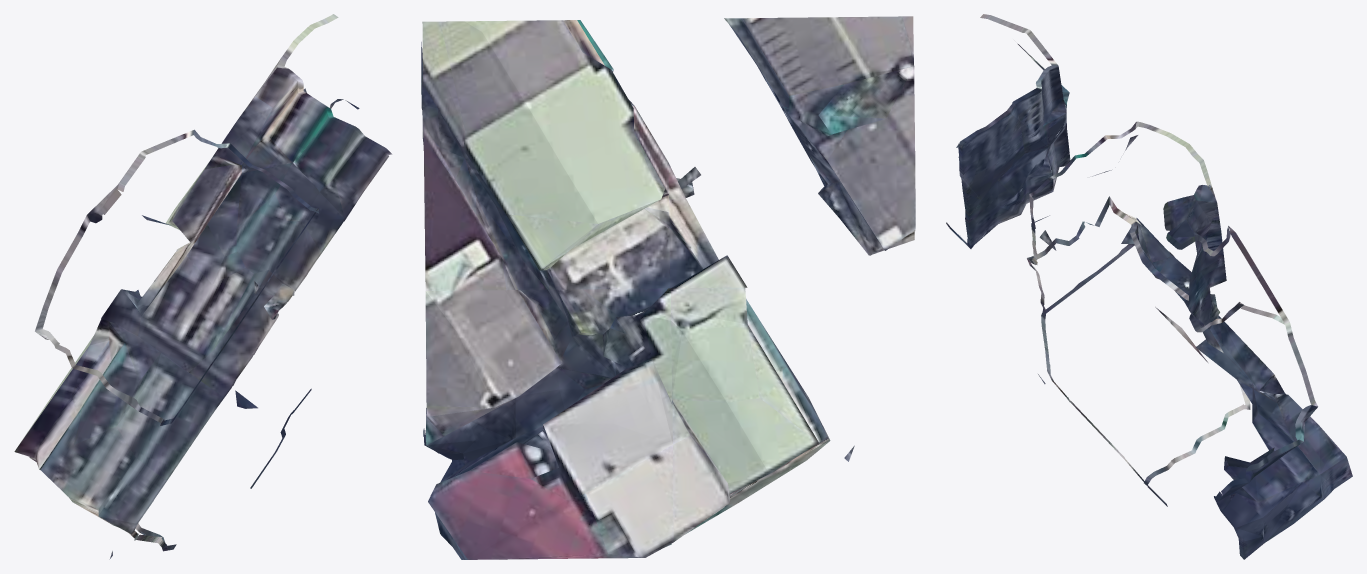
3 renders of one model, left to right at view 1: azimuth 30°, elevation 25°; view 2: azimuth 150°, elevation 25°; view 3: azimuth 270°, elevation 25°, orthographic. The views are drawn at different scales.
Bounding box in the file's own units: 35.11 × 39.9 × 34.26.
2 materials, 2 textured.
